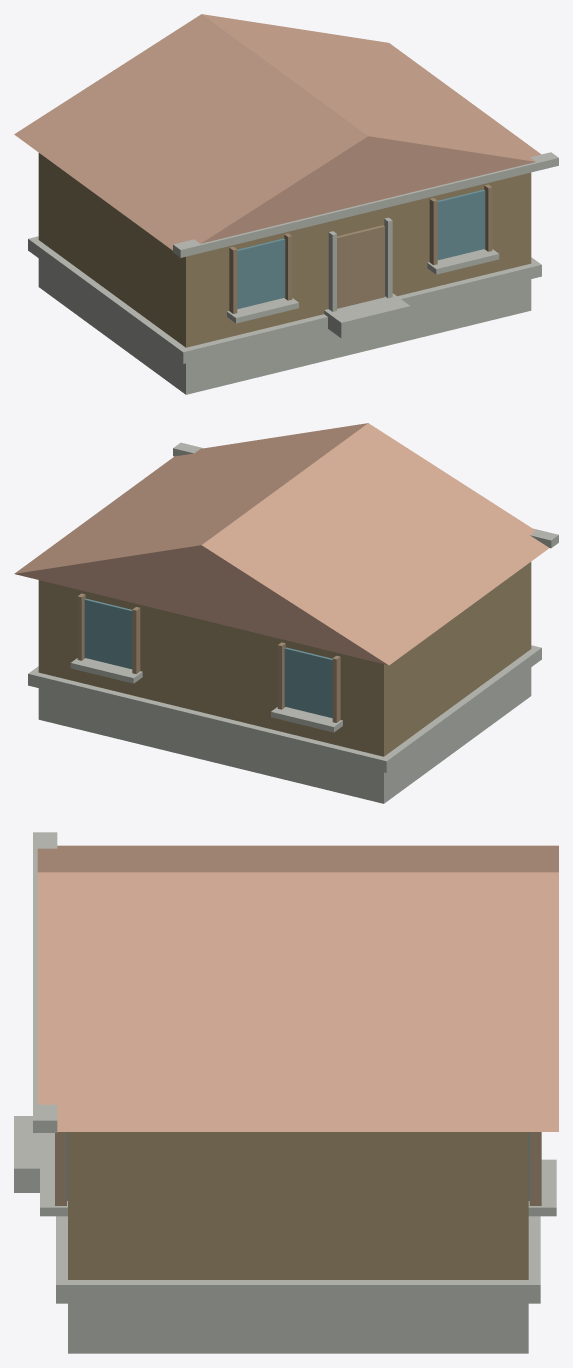
The model's file is farm-3.glb.
3 renders of one model, top to bottom at view 1: azimuth 30°, elevation 25°; view 2: azimuth 150°, elevation 25°; view 3: azimuth 270°, elevation 25°, orthographic. The views are drawn at different scales.
Bounding box in the file's own units: 5.04 × 2.85 × 4.02.
